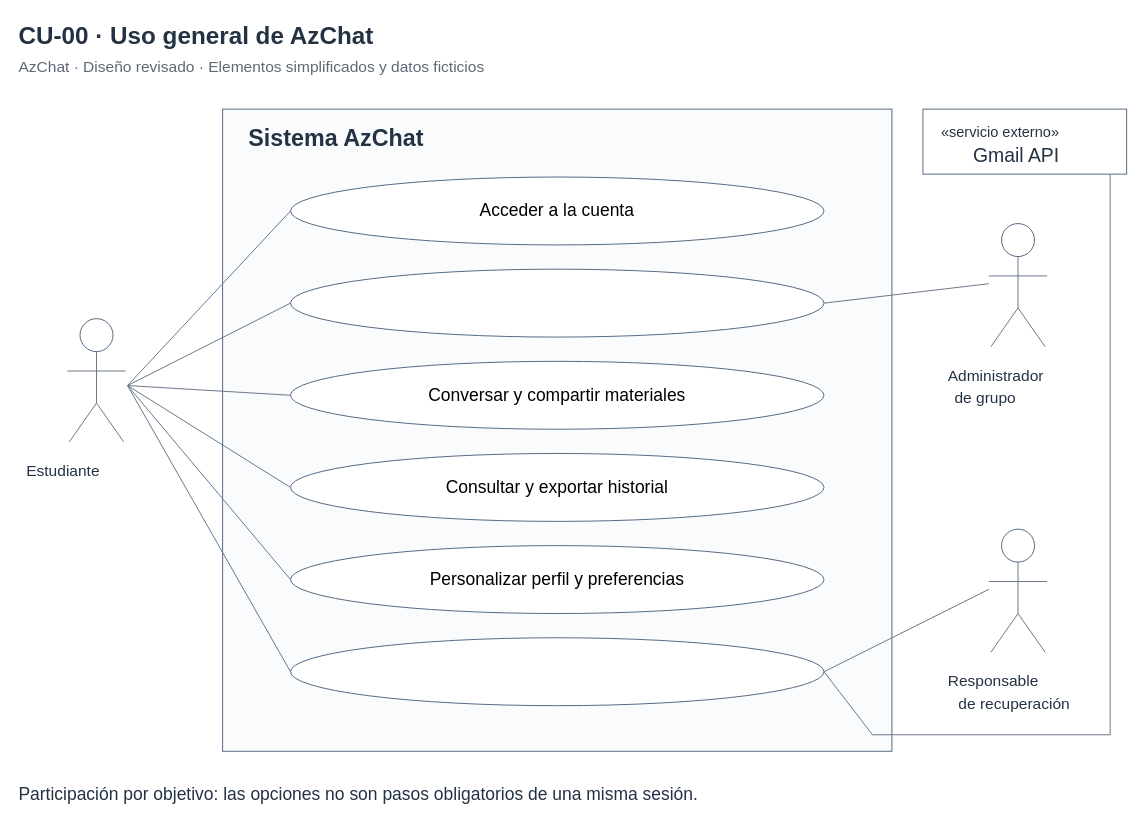
The diagram is 1144 pixels wide and 822 high, and some of its shapes have lost their labels. Each missing label, with the centre of its shape:
"Gestionar grupos" belongs at (557,302).
"Recuperar acceso y verificar correo" belongs at (557,671).
